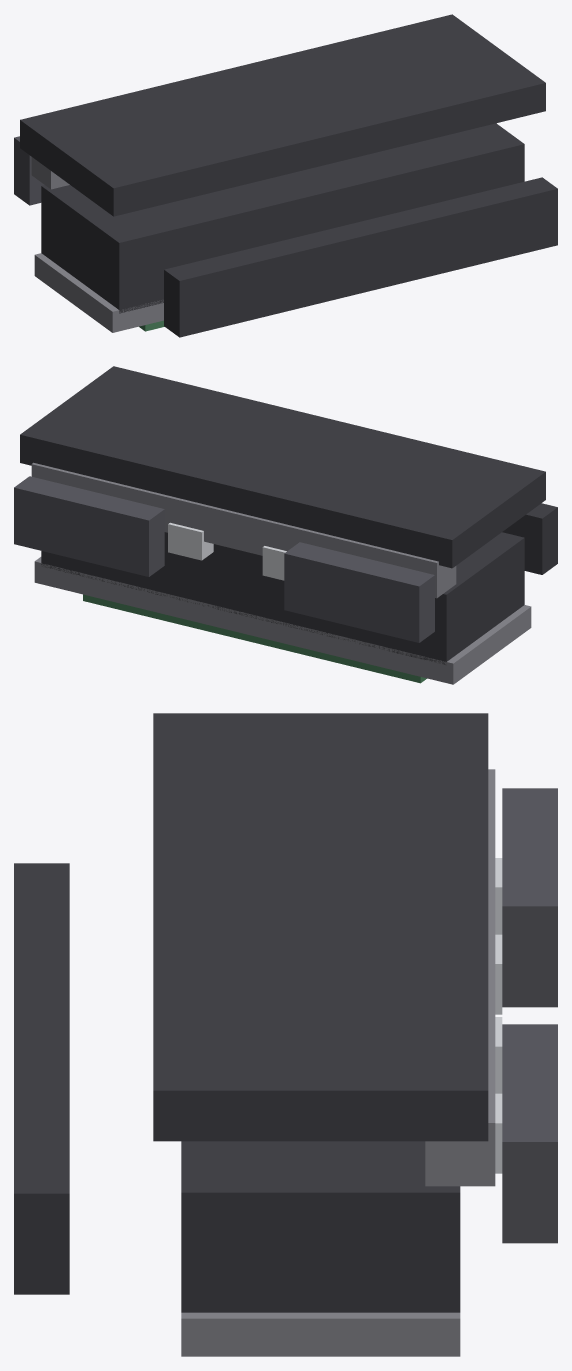
Rendered from cartridge_slot.gltf.
The picture shows the model from 3 angles, top to bottom: view 1: azimuth 30°, elevation 25°; view 2: azimuth 150°, elevation 25°; view 3: azimuth 270°, elevation 25°; orthographic projection. The views are drawn at different scales.
Visible parts, largest first — view 1: cartridge_slot; view 2: cartridge_slot; view 3: cartridge_slot.
Part boxes in pixels (box(x1,y1,x2,y2)): cartridge_slot: box(14, 14, 557, 337); cartridge_slot: box(14, 366, 557, 684); cartridge_slot: box(14, 713, 557, 1356).
Size of the model in its own units: 0.064 by 0.0235 by 0.039.
